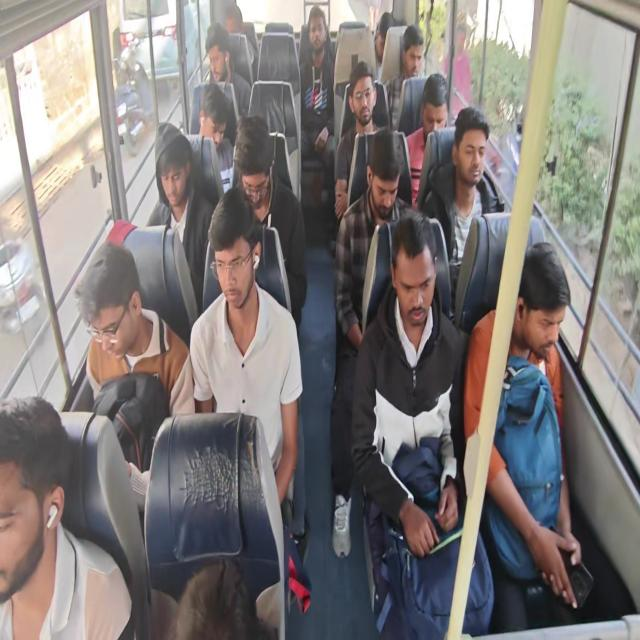person: (0, 389, 62, 611), (81, 247, 144, 364), (207, 197, 262, 315), (515, 238, 565, 361), (394, 219, 438, 326), (155, 117, 188, 214), (238, 124, 274, 212), (367, 132, 405, 215), (454, 111, 494, 181), (199, 85, 228, 153), (401, 24, 433, 85), (418, 77, 450, 134), (200, 24, 230, 76), (303, 4, 332, 57), (349, 60, 374, 120), (366, 13, 398, 57), (221, 1, 255, 33)
